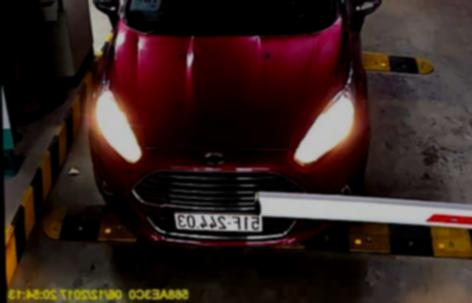License_Plate: (171, 211, 263, 235)
